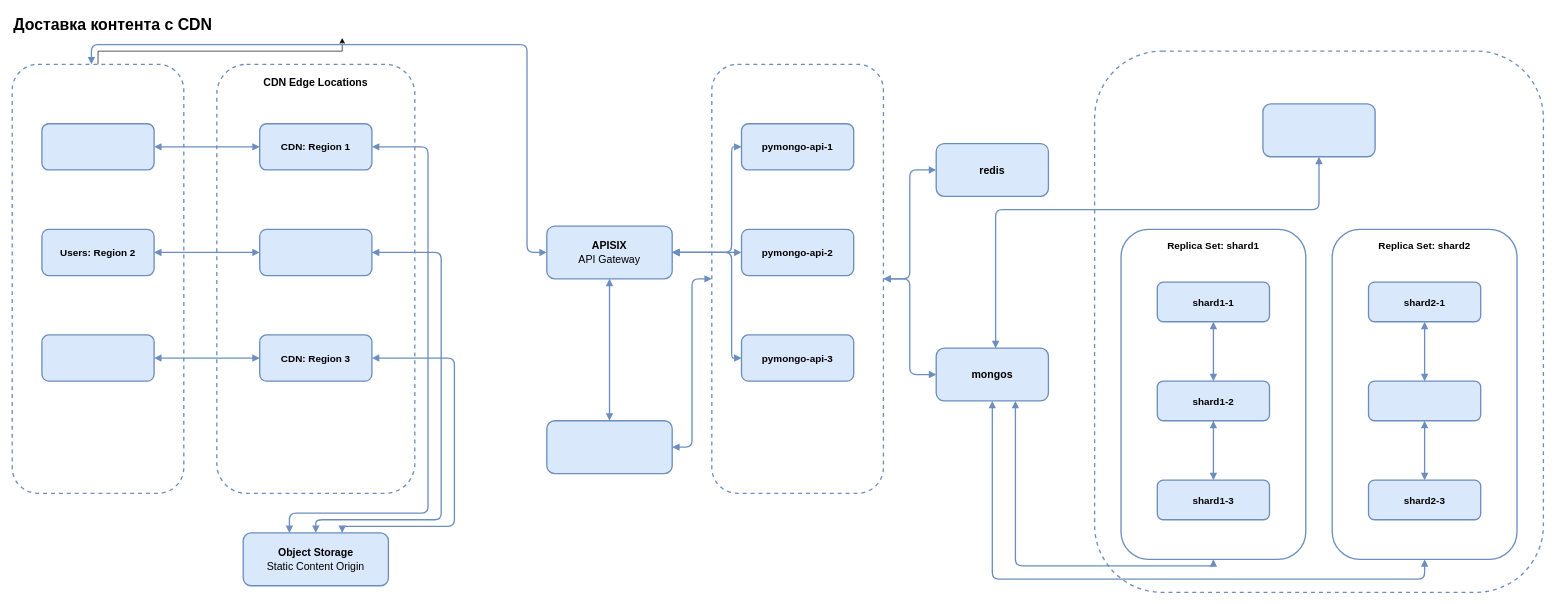
Image size: 1555x604. Some labels were removed from this diagram. The shapes that lost their labels are listed below. From the top down, each one's box as (x1, y1, x2, y2) in pixels, then its label:
(41, 123, 154, 170): Users: Region 1
(1262, 103, 1375, 157): configSrv
(259, 228, 372, 276): CDN: Region 2
(11, 63, 184, 494): Regional Users
(711, 63, 884, 494): Application Instances
(1094, 50, 1544, 593): MongoDB Sharded Cluster
(41, 334, 154, 381): Users: Region 3
(1368, 380, 1481, 421): shard2-2
(546, 420, 673, 474): HashiCorp Consul Service Discovery
